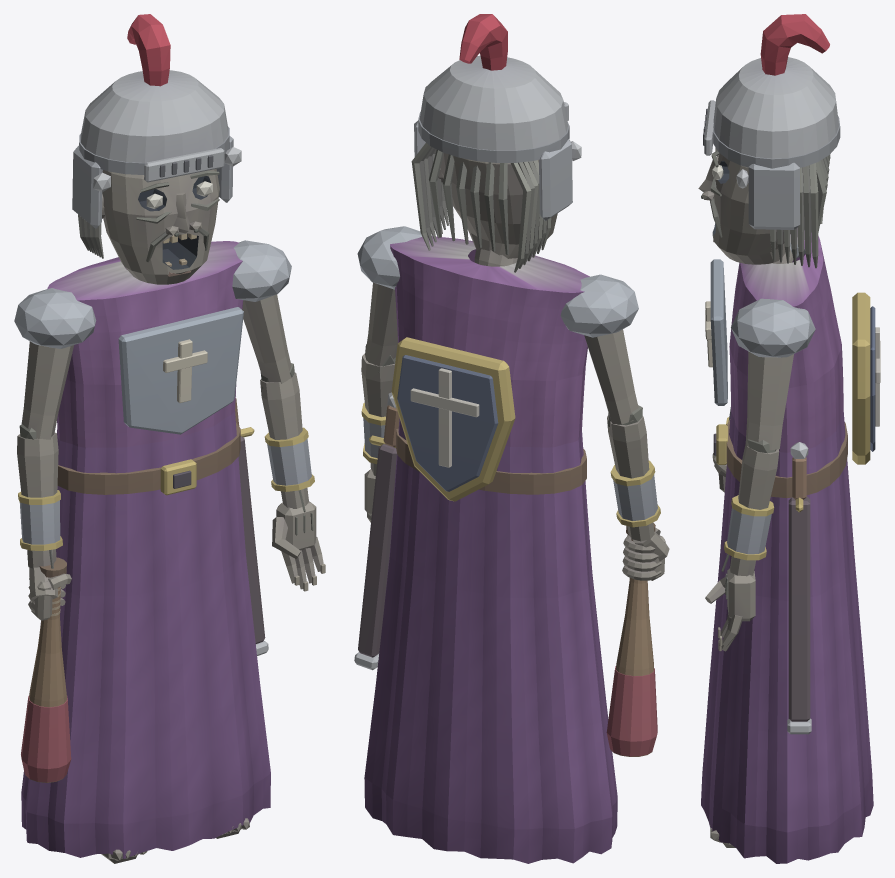
The model's file is GrannyKnight.glb.
The picture shows the model from 3 angles, left to right: view 1: azimuth 30°, elevation 25°; view 2: azimuth 150°, elevation 25°; view 3: azimuth 270°, elevation 25°; orthographic projection.
Parts seen in each view (by area): view 1: Body, Head, ArmR, ArmL; view 2: Body, Head, ArmR, ArmL; view 3: Body, Head, ArmL.
Boxes of the visible parts, <box> form: Body: <box>21,241,270,858</box>; Head: <box>72,14,241,284</box>; ArmR: <box>14,288,96,782</box>; ArmL: <box>232,240,325,591</box>; Body: <box>354,236,617,863</box>; Head: <box>411,14,581,272</box>; ArmR: <box>560,274,669,756</box>; ArmL: <box>357,226,421,522</box>; Body: <box>701,228,880,863</box>; Head: <box>698,14,840,268</box>; ArmL: <box>705,298,815,651</box>.
Bounding box in the file's own units: 2.62 × 6.89 × 1.41.
